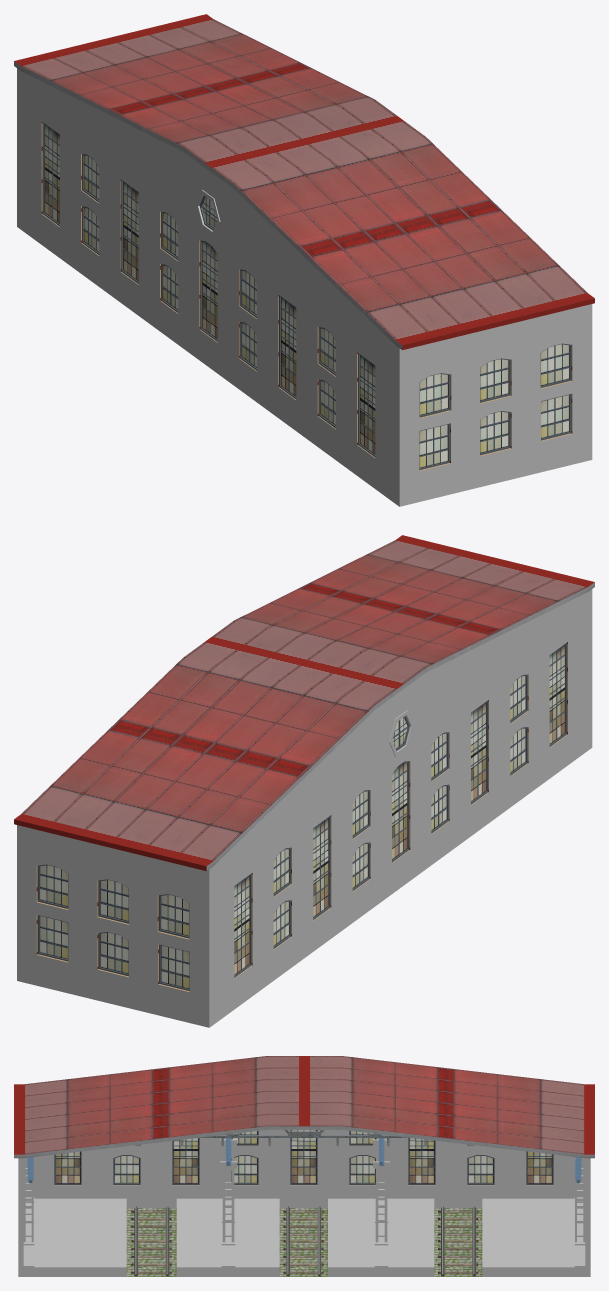
The model's file is HangarBig01d.FBX.
The picture shows the model from 3 angles, top to bottom: view 1: azimuth 30°, elevation 25°; view 2: azimuth 150°, elevation 25°; view 3: azimuth 270°, elevation 25°; orthographic projection. The views are drawn at different scales.
Visible parts, largest first — view 1: HangarBig01_Roof01d, HangarBig01_Wall01d_, HangarBig01_Wall01d1, HangarBig01_Window1d_, HangarBig01_Window2_dw, HangarBig01_Window2d_, HangarBig01_WindowMtl01df, HangarBig01_WindowMtl02df, HangarBig01_WindowMtl_dw, HangarBig01_WindowMtl2_dw; view 2: HangarBig01_Roof01d, HangarBig01_Wall01d_, HangarBig01_Wall01d1, HangarBig01_Window1d_, HangarBig01_Window2_dw, HangarBig01_Window2d_, HangarBig01_WindowMtl01df, HangarBig01_WindowMtl02df, HangarBig01_WindowMtl_dw, HangarBig01_WindowMtl2_dw; view 3: HangarBig01_Roof01d, HangarBig01_Floor_d, HangarBig01_Wall01d_, HangarBig01_RailFloor_d, HangarBig01_Window1d_, HangarBig01_Railway_d, HangarBig01_Window2d_, HangarBig01_Carcass01_1d, HangarBig01_WindowMtl01df, HangarBig01_WindowMtl02df, HangarBig01_Wall01d1, HangarBig01_Carcass01d (+4 smaller).
Part boxes in pixels (<box>): HangarBig01_Roof01d: <box>14,14,594,349</box>; HangarBig01_Wall01d_: <box>20,71,395,503</box>; HangarBig01_Wall01d1: <box>17,68,592,506</box>; HangarBig01_Window1d_: <box>44,124,375,454</box>; HangarBig01_Window2_dw: <box>419,344,569,467</box>; HangarBig01_Window2d_: <box>84,155,335,425</box>; HangarBig01_WindowMtl01df: <box>42,122,375,456</box>; HangarBig01_WindowMtl02df: <box>44,130,375,449</box>; HangarBig01_WindowMtl_dw: <box>419,343,571,470</box>; HangarBig01_WindowMtl2_dw: <box>419,345,569,464</box>; HangarBig01_Roof01d: <box>14,535,594,871</box>; HangarBig01_Wall01d_: <box>213,592,588,1024</box>; HangarBig01_Wall01d1: <box>17,589,592,1027</box>; HangarBig01_Window1d_: <box>234,645,564,974</box>; HangarBig01_Window2_dw: <box>39,865,189,988</box>; HangarBig01_Window2d_: <box>273,676,525,945</box>; HangarBig01_WindowMtl01df: <box>234,643,566,977</box>; HangarBig01_WindowMtl02df: <box>234,650,565,970</box>; HangarBig01_WindowMtl_dw: <box>37,864,189,990</box>; HangarBig01_WindowMtl2_dw: <box>39,866,189,985</box>; HangarBig01_Roof01d: <box>14,1056,594,1158</box>; HangarBig01_Floor_d: <box>23,1198,585,1276</box>; HangarBig01_Wall01d_: <box>25,1130,583,1208</box>; HangarBig01_RailFloor_d: <box>126,1208,482,1276</box>; HangarBig01_Window1d_: <box>55,1130,552,1183</box>; HangarBig01_Railway_d: <box>131,1206,478,1276</box>; HangarBig01_Window2d_: <box>114,1131,493,1183</box>; HangarBig01_Carcass01_1d: <box>220,1139,389,1242</box>; HangarBig01_WindowMtl01df: <box>54,1130,553,1184</box>; HangarBig01_WindowMtl02df: <box>55,1130,552,1183</box>; HangarBig01_Wall01d1: <box>18,1158,590,1276</box>; HangarBig01_Carcass01d: <box>23,1157,585,1242</box>.
Bounding box in the file's own units: 653 × 649 × 2269.
